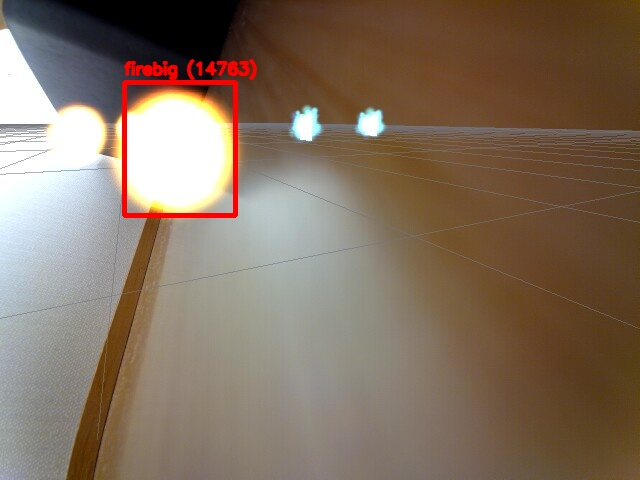firebig: (124, 82, 235, 215)
